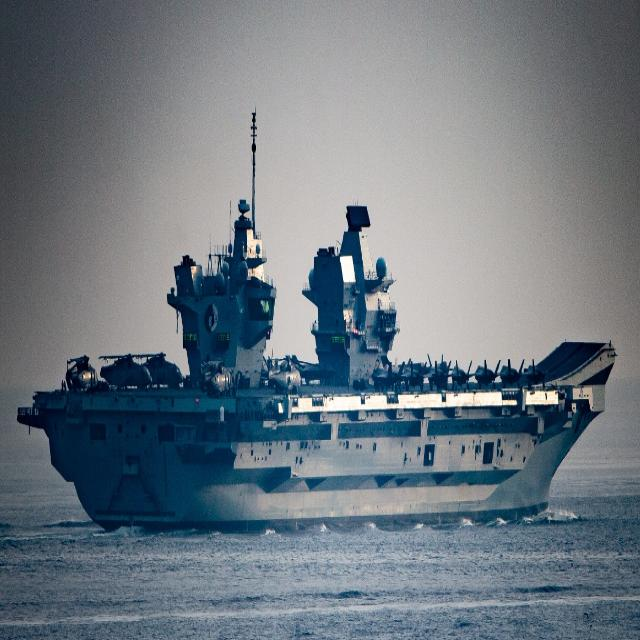navalvessels: (13, 111, 615, 548)
